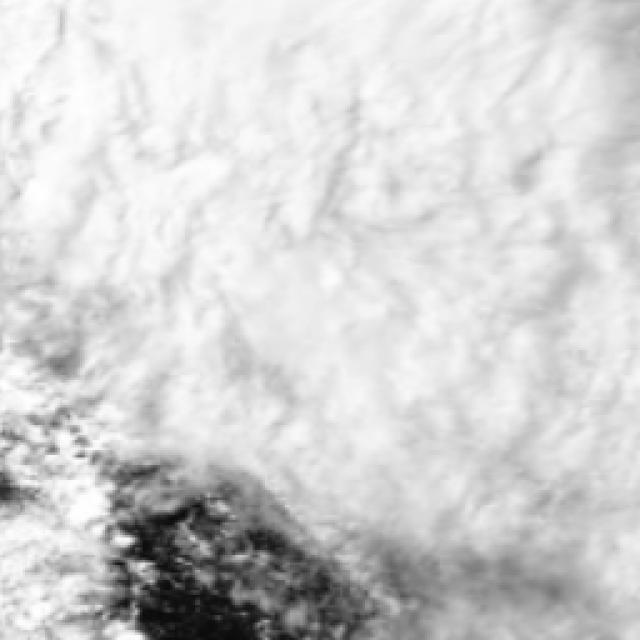CB: (0, 0, 578, 270), (294, 272, 488, 490)
